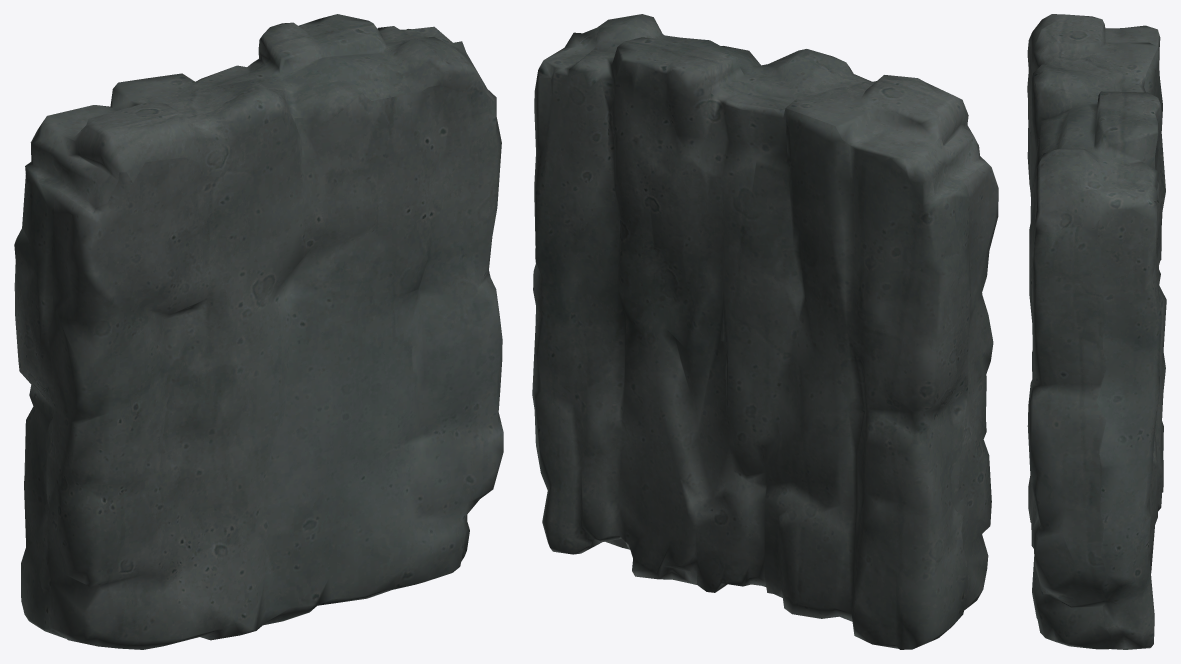
File: Cliff_Sheer_V2.fbx
3 views of the same model, side by side, from view 1: azimuth 30°, elevation 25°; view 2: azimuth 150°, elevation 25°; view 3: azimuth 270°, elevation 25° (orthographic). The views are drawn at different scales.
Visible parts, largest first — view 1: SM_Cliff_Sheer_V2.mo; view 2: SM_Cliff_Sheer_V2.mo; view 3: SM_Cliff_Sheer_V2.mo.
Boxes of the visible parts, x1,y1,x2,y2 form: SM_Cliff_Sheer_V2.mo: (14, 14, 503, 649); SM_Cliff_Sheer_V2.mo: (532, 14, 998, 649); SM_Cliff_Sheer_V2.mo: (1027, 14, 1166, 649).
Size of the model in its own units: 1471 by 1741 by 438.
